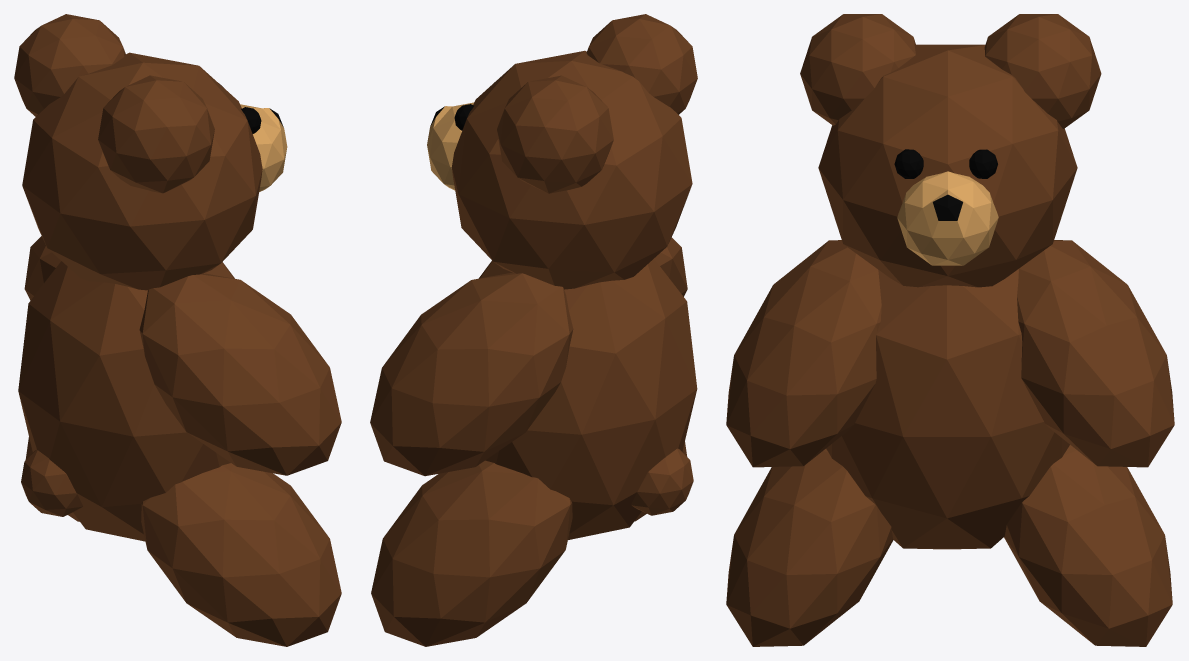
File: TeddyBear.fbx
The picture shows the model from 3 angles, left to right: view 1: azimuth 30°, elevation 25°; view 2: azimuth 150°, elevation 25°; view 3: azimuth 270°, elevation 25°; orthographic projection. The views are drawn at different scales.
Visible parts, largest first — view 1: Teddy Bear; view 2: Teddy Bear; view 3: Teddy Bear.
Part boxes in pixels (x1,y1,x2,y2): Teddy Bear: (14,14,341,646); Teddy Bear: (370,14,697,646); Teddy Bear: (726,14,1174,646).
Size of the model in its own units: 236 by 496 by 346.
